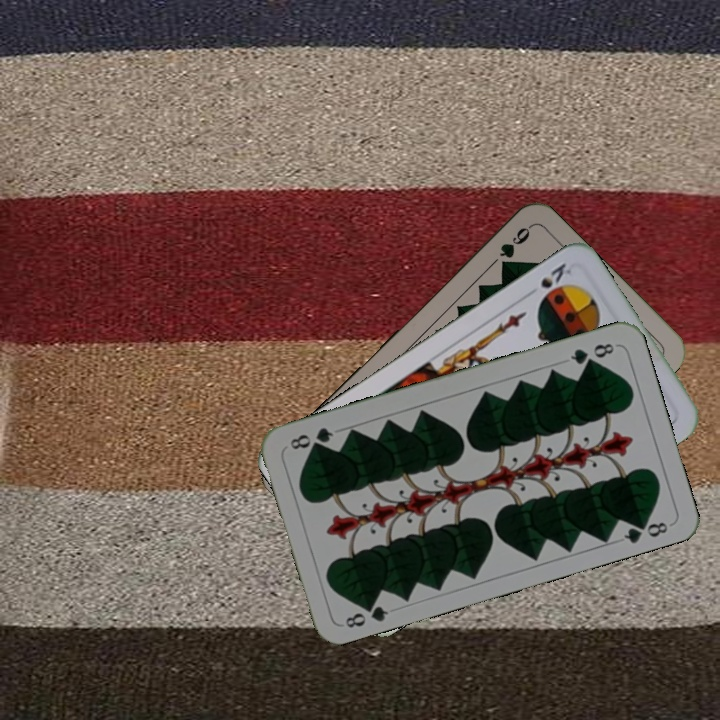G8: (341, 597, 391, 631), (566, 339, 620, 367)
G9: (494, 221, 533, 261)
SK: (536, 258, 575, 302)
